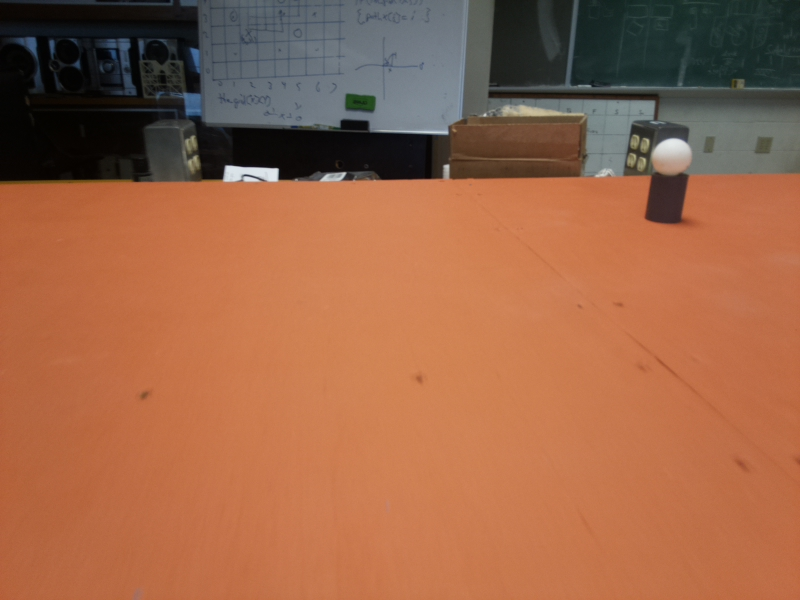obstacle: (640, 139, 696, 224)
